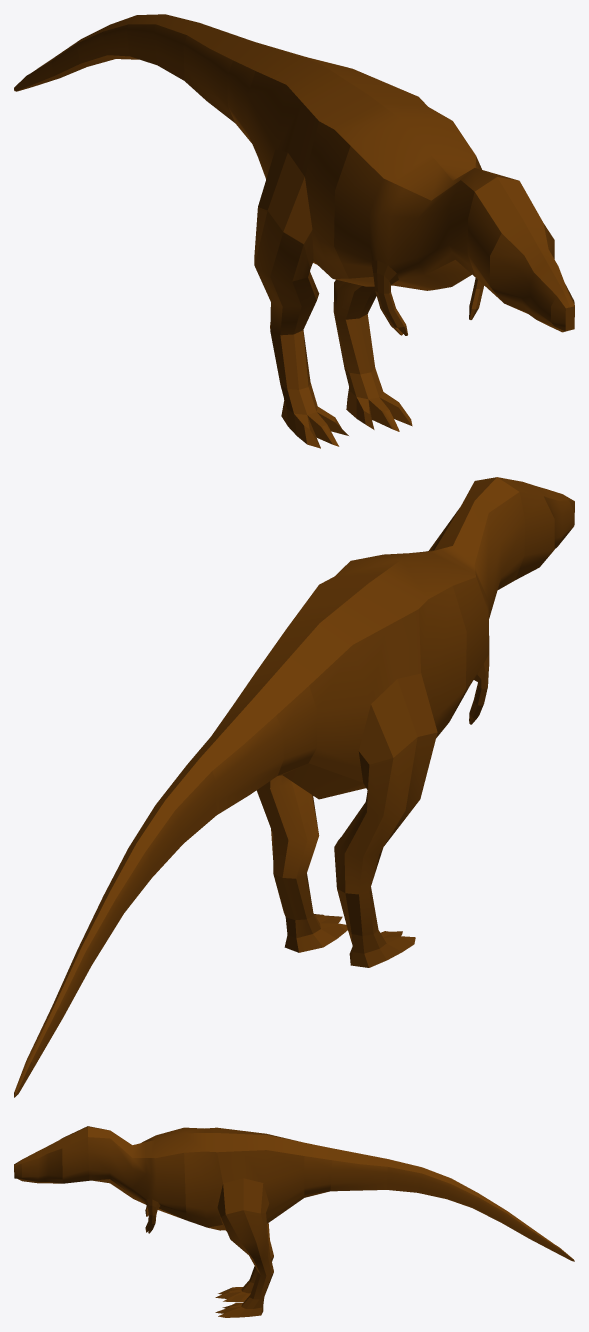
The model's file is Low_Poly_Trex.fbx.
3 views of the same model, one above another, from view 1: azimuth 30°, elevation 25°; view 2: azimuth 150°, elevation 25°; view 3: azimuth 270°, elevation 25° (orthographic). The views are drawn at different scales.
Visible parts, largest first — view 1: Low_Poly_Trex; view 2: Low_Poly_Trex; view 3: Low_Poly_Trex.
Part boxes in pixels (x1,y1,x2,y2): Low_Poly_Trex: [14, 14, 574, 448]; Low_Poly_Trex: [14, 477, 574, 1097]; Low_Poly_Trex: [14, 1126, 574, 1317].
Bounding box in the file's own units: 4.37 × 9.6 × 27.3.
